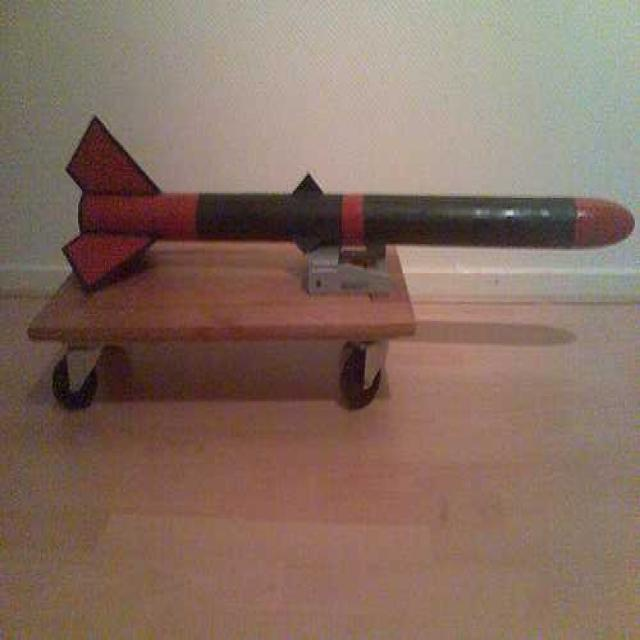missile: (62, 112, 634, 297)
